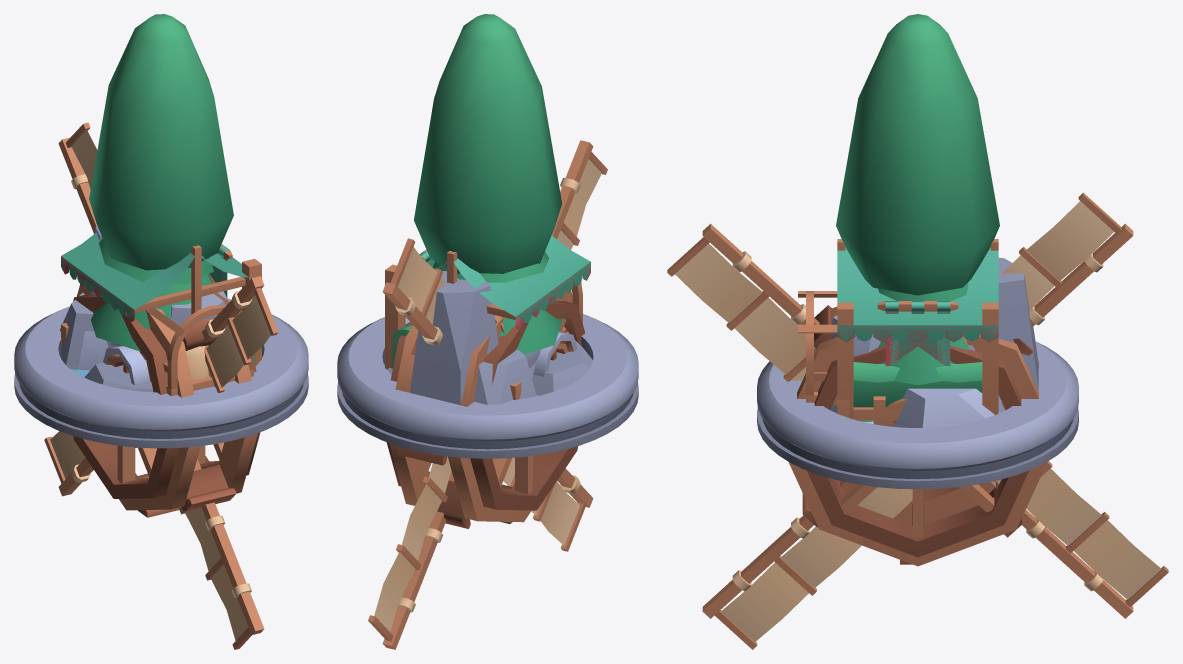
Rendered from kenney-town.glb.
The picture shows the model from 3 angles, left to right: view 1: azimuth 30°, elevation 25°; view 2: azimuth 150°, elevation 25°; view 3: azimuth 270°, elevation 25°; orthographic projection. The views are drawn at different scales.
Visible parts, largest first — view 1: tree-high-round, fountain-round-detail, watermill, windmill, stall-green, rock-large, tree-crooked, cart-high, Group (×2), rock-wide, stall-red, poles; view 2: tree-high-round, fountain-round-detail, windmill, watermill, rock-wide, stall-green, rock-large, tree-crooked, poles, Group; view 3: windmill, tree-high-round, fountain-round-detail, watermill, stall-green, rock-large, hedge-large, poles, rock-wide, tree-crooked, banner-green, cart-high (+2 smaller).
Part boxes in pixels (x1,y1,x2,y2): tree-high-round: [89, 14, 233, 270]; fountain-round-detail: [14, 298, 308, 448]; watermill: [73, 274, 260, 517]; windmill: [44, 122, 278, 649]; stall-green: [61, 232, 248, 375]; rock-large: [60, 291, 227, 392]; tree-crooked: [91, 238, 213, 351]; cart-high: [139, 293, 253, 396]; Group (×2): [103, 346, 150, 385]; rock-wide: [77, 226, 108, 376]; stall-red: [61, 257, 134, 322]; poles: [242, 258, 261, 365]; tree-high-round: [414, 14, 561, 273]; fountain-round-detail: [337, 314, 638, 458]; windmill: [368, 140, 607, 649]; watermill: [386, 288, 584, 528]; rock-wide: [409, 271, 498, 404]; stall-green: [427, 235, 590, 332]; rock-large: [384, 319, 592, 404]; tree-crooked: [432, 252, 562, 354]; poles: [385, 264, 405, 368]; Group: [533, 332, 577, 376]; windmill: [667, 192, 1168, 649]; tree-high-round: [836, 14, 999, 295]; fountain-round-detail: [757, 341, 1078, 489]; watermill: [788, 305, 1047, 566]; stall-green: [837, 239, 998, 341]; rock-large: [830, 315, 1004, 427]; hedge-large: [853, 362, 982, 423]; poles: [837, 302, 998, 419]; rock-wide: [830, 257, 1038, 413]; tree-crooked: [878, 282, 969, 385]; banner-green: [877, 301, 958, 366]; cart-high: [798, 291, 1005, 410].
Size of the model in its own units: 2 by 4.31 by 3.11.
2 materials, 1 textured.
